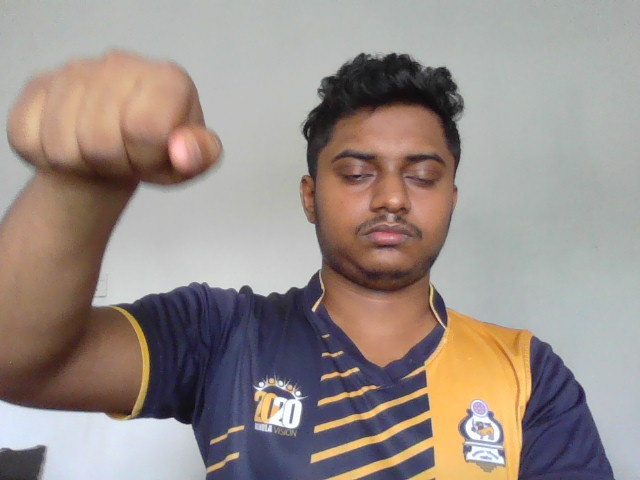Yes: (7, 44, 233, 190)
